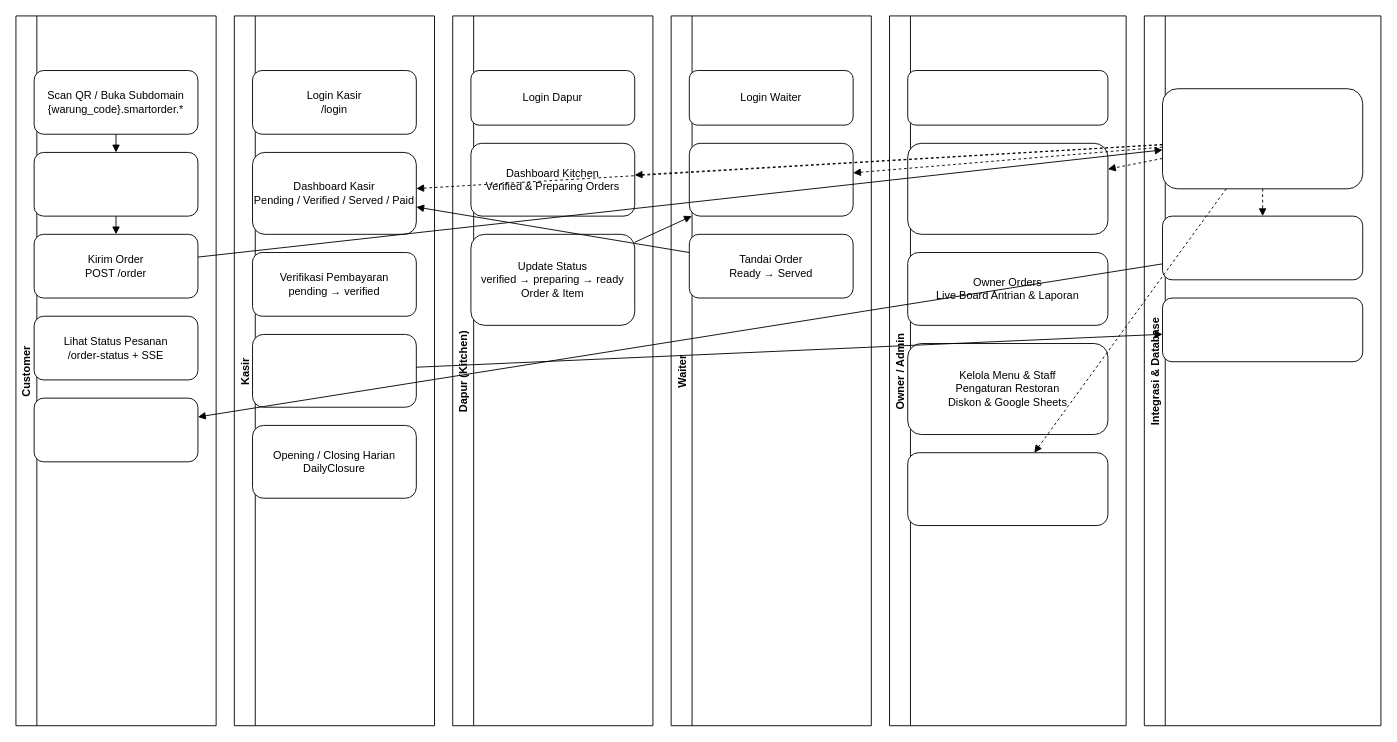
Some shapes in this 1397 by 742 pixel diagram are drawn without their labels. The shapes that lost their labels are listed below. From the top down, each one's centre as x and y in pixels, then its label:
(1007,97): Login Owner / Admin
(1262,138): Database MySQL Orders, Items, Warungs, Users, Shifts, Closures
(115,184): Lihat Menu Digital Pilih item & qty
(770,179): Dashboard Waiter verified/preparing/ready
(1007,188): Owner Dashboard Ringkasan Harian/Mingguan/Bulanan/Tahunan Best Seller
(1262,247): WhatsApp Gateway (Fonnte API)
(1262,329): Google Sheets Log Penjualan (Simulasi)
(334,370): Proses Payment served → paid + Struk & WA
(115,429): Terima Notifikasi WA & Struk Digital
(1007,489): Admin Dashboard Daftar Warung & Laporan Global
